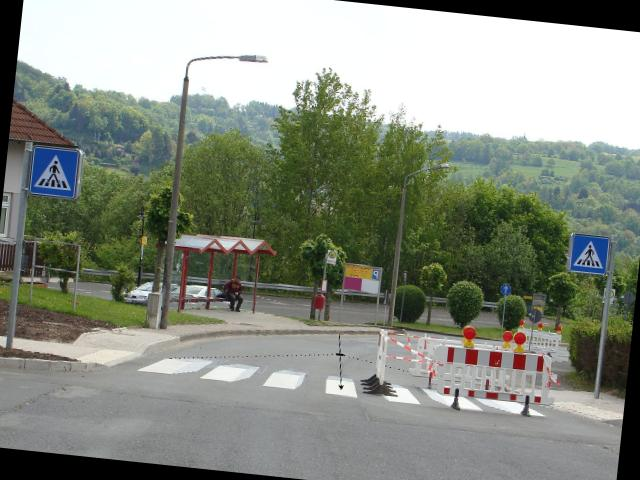crosswalk-sign: (29, 145, 86, 202), (568, 233, 612, 277)
